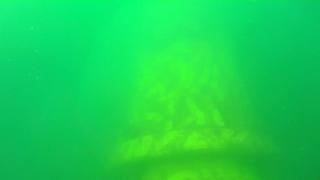pipe: (110, 13, 275, 179)
